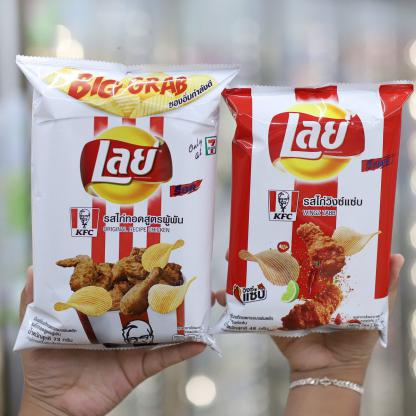potatochip: (8, 50, 245, 363), (203, 73, 415, 355)
